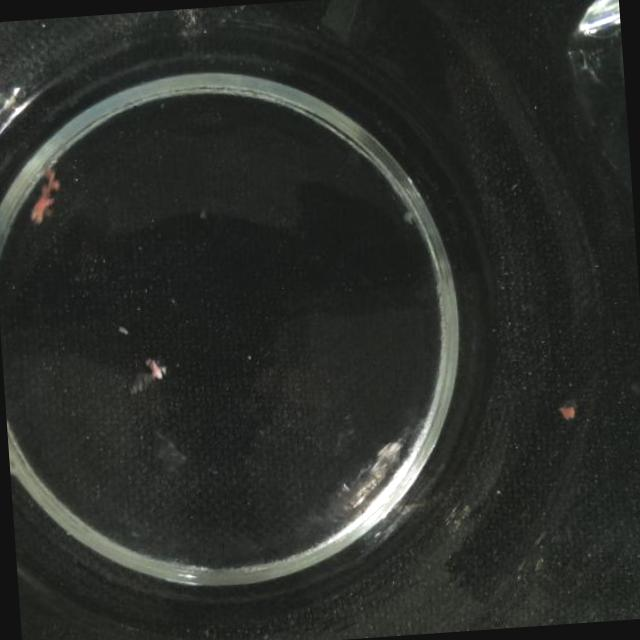fiber: (26, 162, 67, 230), (128, 356, 172, 402), (557, 400, 579, 426)
